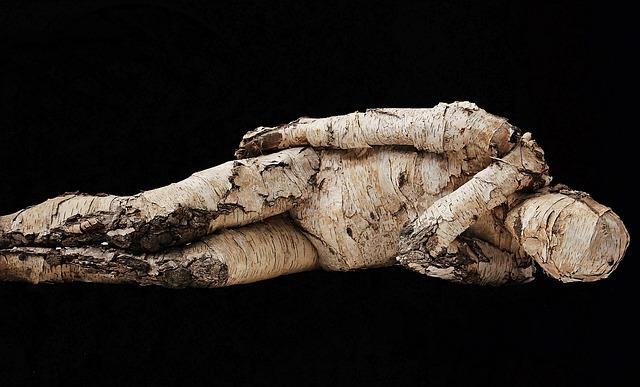Non_Gorille: (126, 64, 640, 341)
